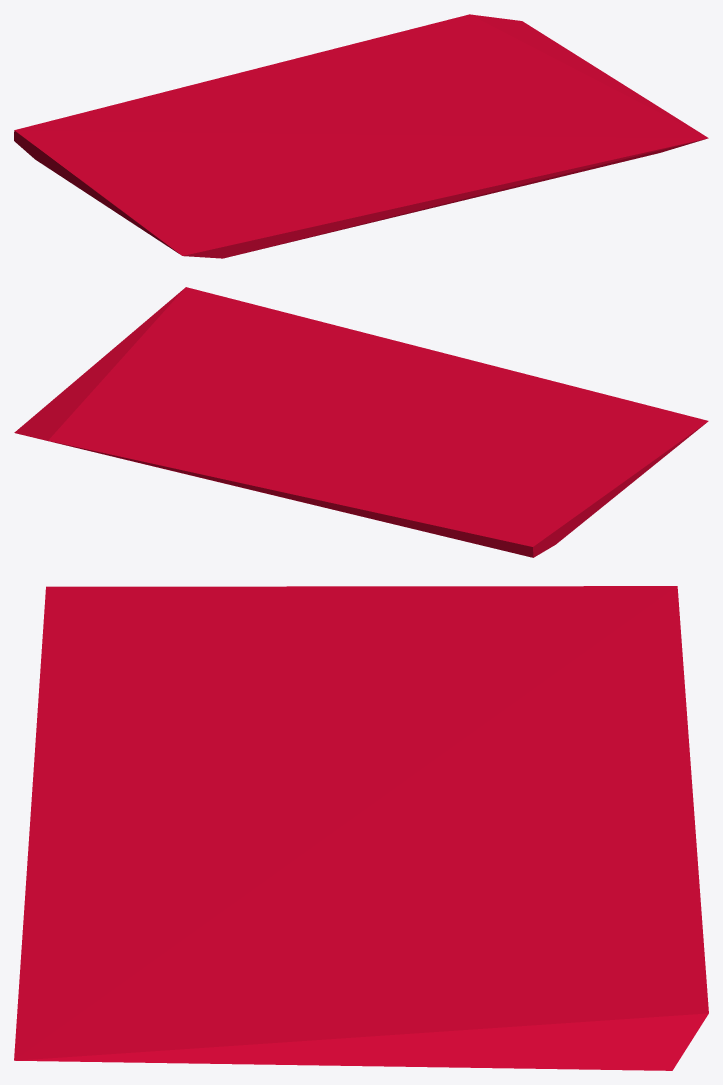
The model's file is waste_bin_convex_piece_019.obj.
The picture shows the model from 3 angles, top to bottom: view 1: azimuth 30°, elevation 25°; view 2: azimuth 150°, elevation 25°; view 3: azimuth 270°, elevation 25°; orthographic projection. The views are drawn at different scales.
Bounding box in the file's own units: 0.1865 × 0.00464 × 0.1165.
